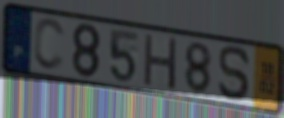5: (108, 27, 141, 85)
8: (71, 22, 103, 79), (182, 41, 214, 95)
C: (31, 16, 67, 74)
H: (142, 31, 180, 92)
S: (217, 44, 252, 104)
